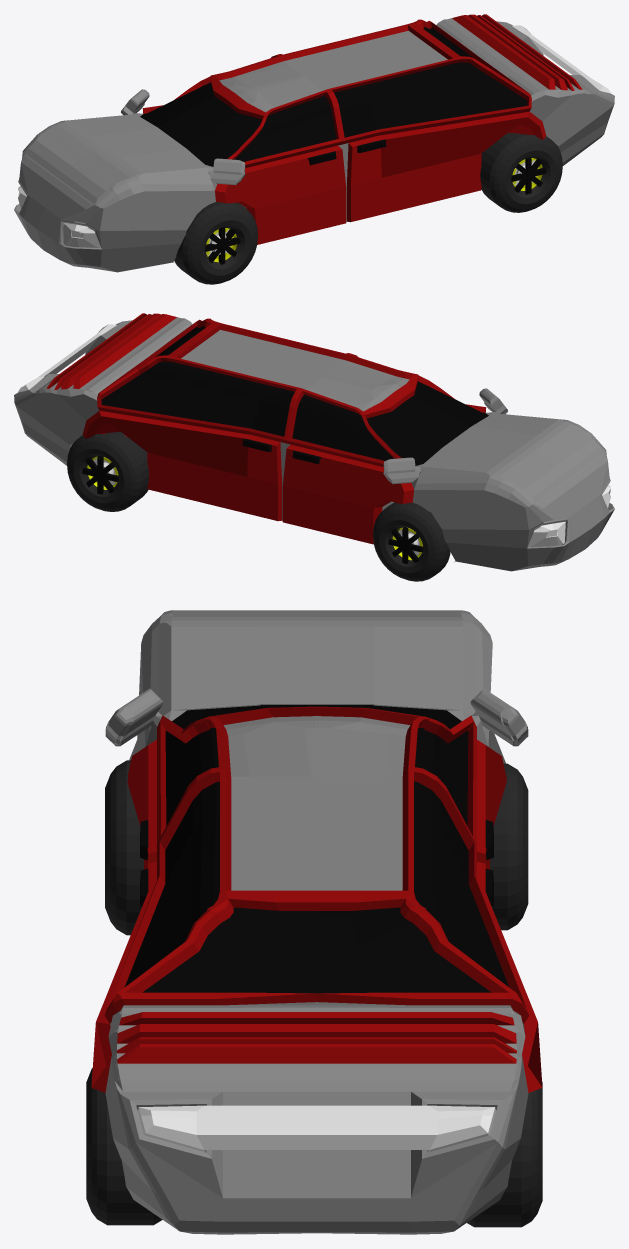
File: Araba2.fbx
3 views of the same model, one above another, from view 1: azimuth 30°, elevation 25°; view 2: azimuth 150°, elevation 25°; view 3: azimuth 270°, elevation 25° (orthographic). The views are drawn at different scales.
Visible parts, largest first — view 1: Cube.006, Cube.037, Cube.025, Cube.035, Cylinder.010, Cylinder.009, Cube.036, Cube.033, Cube.038, Cube.034; view 2: Cube.006, Cube.037, Cube.025, Cube.035, Cylinder.012, Cube.036, Cube.044, Cube.033, Cube.038, Cube.034; view 3: Cube.006, Cube.035, Cube.025, Cube.032, Cube.033, Cube.034, Cube.037, Cylinder.009, Cylinder.010, Cube.044, Cylinder.012, Cube.036.
Boxes of the visible parts, x1=… form: Cube.006: x1=14, y1=18, x2=614, y2=272; Cube.037: x1=215, y1=111, x2=546, y2=244; Cube.025: x1=235, y1=62, x2=527, y2=161; Cube.035: x1=142, y1=19, x2=531, y2=167; Cylinder.010: x1=480, y1=133, x2=562, y2=212; Cylinder.009: x1=174, y1=202, x2=257, y2=284; Cube.036: x1=140, y1=82, x2=261, y2=166; Cube.033: x1=452, y1=14, x2=582, y2=90; Cube.038: x1=18, y1=186, x2=100, y2=247; Cube.034: x1=512, y1=25, x2=610, y2=93; Cube.006: x1=14, y1=317, x2=614, y2=571; Cube.037: x1=82, y1=410, x2=413, y2=544; Cube.025: x1=101, y1=361, x2=393, y2=460; Cube.035: x1=97, y1=318, x2=486, y2=466; Cylinder.012: x1=67, y1=432, x2=149, y2=511; Cube.036: x1=367, y1=381, x2=488, y2=465; Cube.044: x1=373, y1=502, x2=450, y2=581; Cube.033: x1=46, y1=313, x2=176, y2=389; Cube.038: x1=528, y1=485, x2=610, y2=546; Cube.034: x1=18, y1=324, x2=116, y2=392; Cube.006: x1=105, y1=610, x2=528, y2=1234; Cube.035: x1=104, y1=706, x2=529, y2=1023; Cube.025: x1=125, y1=728, x2=508, y2=986; Cube.032: x1=142, y1=907, x2=491, y2=993; Cube.033: x1=117, y1=1012, x2=516, y2=1063; Cube.034: x1=137, y1=1105, x2=496, y2=1151; Cube.037: x1=91, y1=739, x2=542, y2=1092; Cylinder.009: x1=105, y1=760, x2=143, y2=935; Cylinder.010: x1=86, y1=1068, x2=162, y2=1225; Cube.044: x1=490, y1=763, x2=528, y2=930; Cylinder.012: x1=467, y1=1081, x2=542, y2=1227; Cube.036: x1=172, y1=704, x2=461, y2=728.
Size of the model in its own units: 1296 by 334 by 480.
